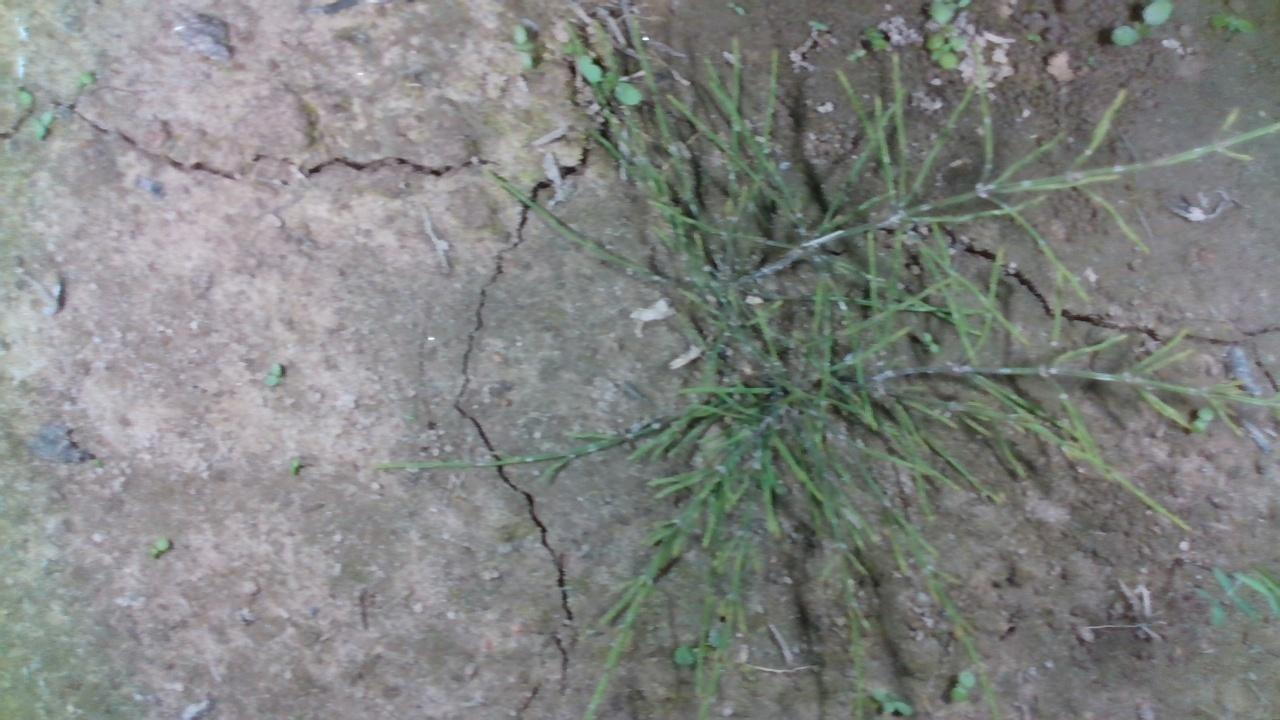weed: (137, 538, 177, 565), (257, 363, 281, 388)
